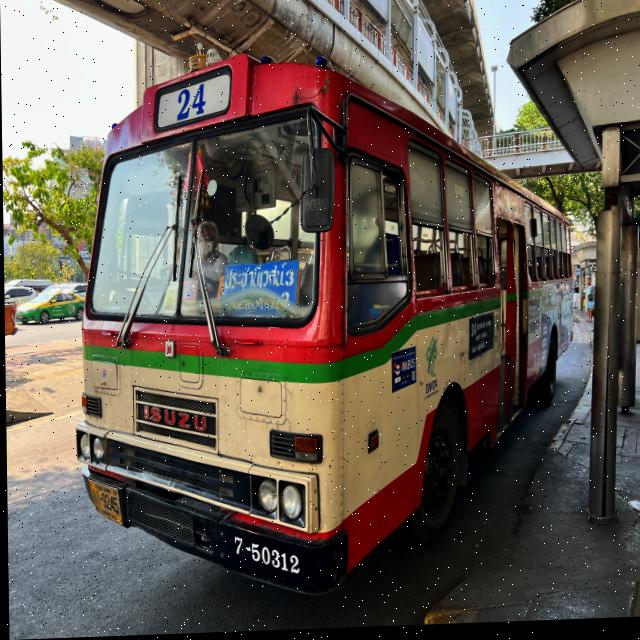BMTA-bus: (73, 57, 574, 599)
Bus Line Number: (151, 68, 233, 136)
Bus Side Number: (229, 534, 301, 580)
Destination Sign: (217, 262, 299, 318)
